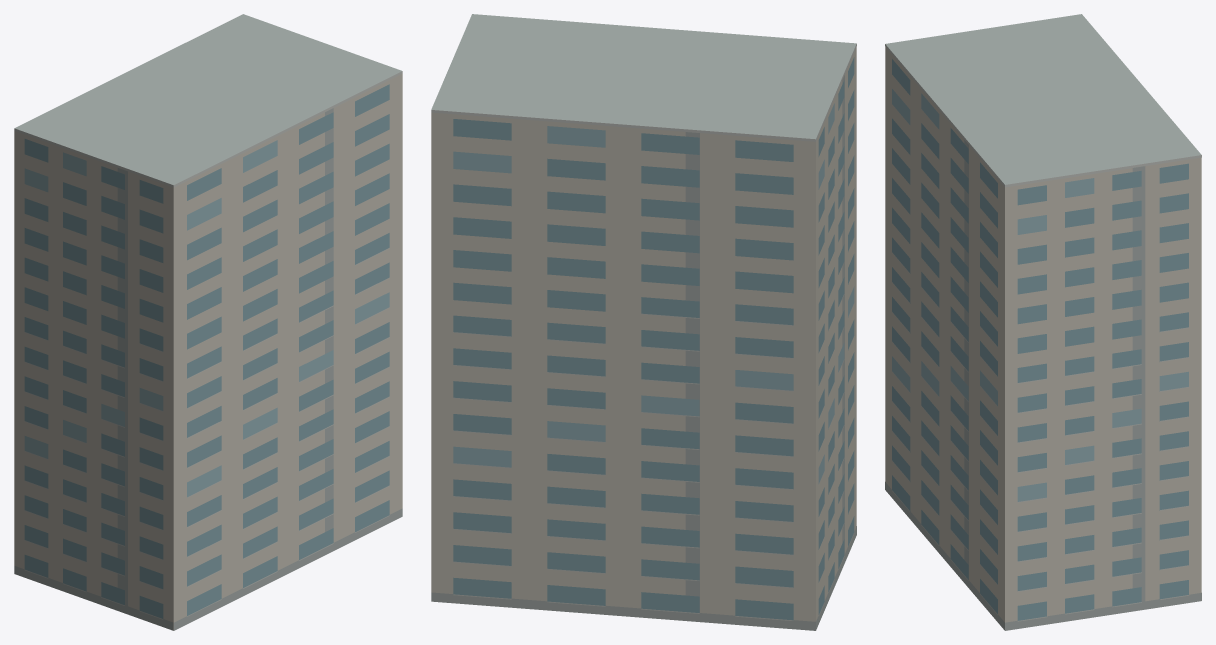
File: residential-f1ada9d9-edea-4c08-87ee-6964d23ccef1.glb
The picture shows the model from 3 angles, left to right: view 1: azimuth 30°, elevation 25°; view 2: azimuth 150°, elevation 25°; view 3: azimuth 270°, elevation 25°; orthographic projection. The views are drawn at different scales.
Visible parts, largest first — view 1: residential-f1ada9d9-edea-4c08-87ee-6964d23ccef1.tmp; view 2: residential-f1ada9d9-edea-4c08-87ee-6964d23ccef1.tmp; view 3: residential-f1ada9d9-edea-4c08-87ee-6964d23ccef1.tmp.
Boxes of the visible parts, x1=… form: residential-f1ada9d9-edea-4c08-87ee-6964d23ccef1.tmp: x1=14, y1=14, x2=402, y2=630; residential-f1ada9d9-edea-4c08-87ee-6964d23ccef1.tmp: x1=431, y1=14, x2=856, y2=630; residential-f1ada9d9-edea-4c08-87ee-6964d23ccef1.tmp: x1=885, y1=14, x2=1201, y2=630.
Bounding box in the file's own units: 36.17 × 44 × 28.32.
